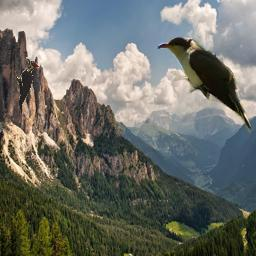Cuckoo: (155, 37, 251, 133)
Woodpecker: (13, 57, 39, 114)
